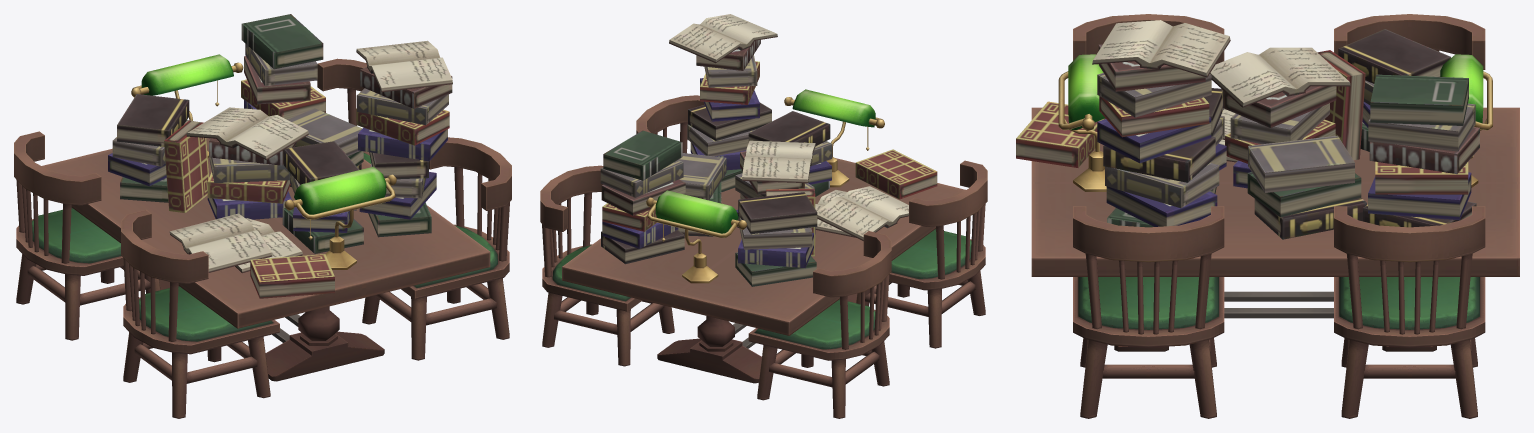
Rendered from my_wildhunt_01_table_04.glb.
3 renders of one model, left to right at view 1: azimuth 30°, elevation 25°; view 2: azimuth 150°, elevation 25°; view 3: azimuth 270°, elevation 25°, orthographic. The views are drawn at different scales.
Parts seen in each view (by area): view 1: my_wildhunt_01_table_04.001, my_wildhunt_01_table_04_book; view 2: my_wildhunt_01_table_04.001, my_wildhunt_01_table_04_book; view 3: my_wildhunt_01_table_04.001, my_wildhunt_01_table_04_book.
Boxes of the visible parts, x1,y1,x2,y2 form: my_wildhunt_01_table_04.001: (14,54,511,418); my_wildhunt_01_table_04_book: (108,14,452,298); my_wildhunt_01_table_04.001: (540,89,987,418); my_wildhunt_01_table_04_book: (600,14,937,286); my_wildhunt_01_table_04.001: (1031,14,1519,418); my_wildhunt_01_table_04_book: (1016,20,1479,239).
Size of the model in its own units: 0.0119 by 0.00848 by 0.0116.
2 materials, 2 textured.
